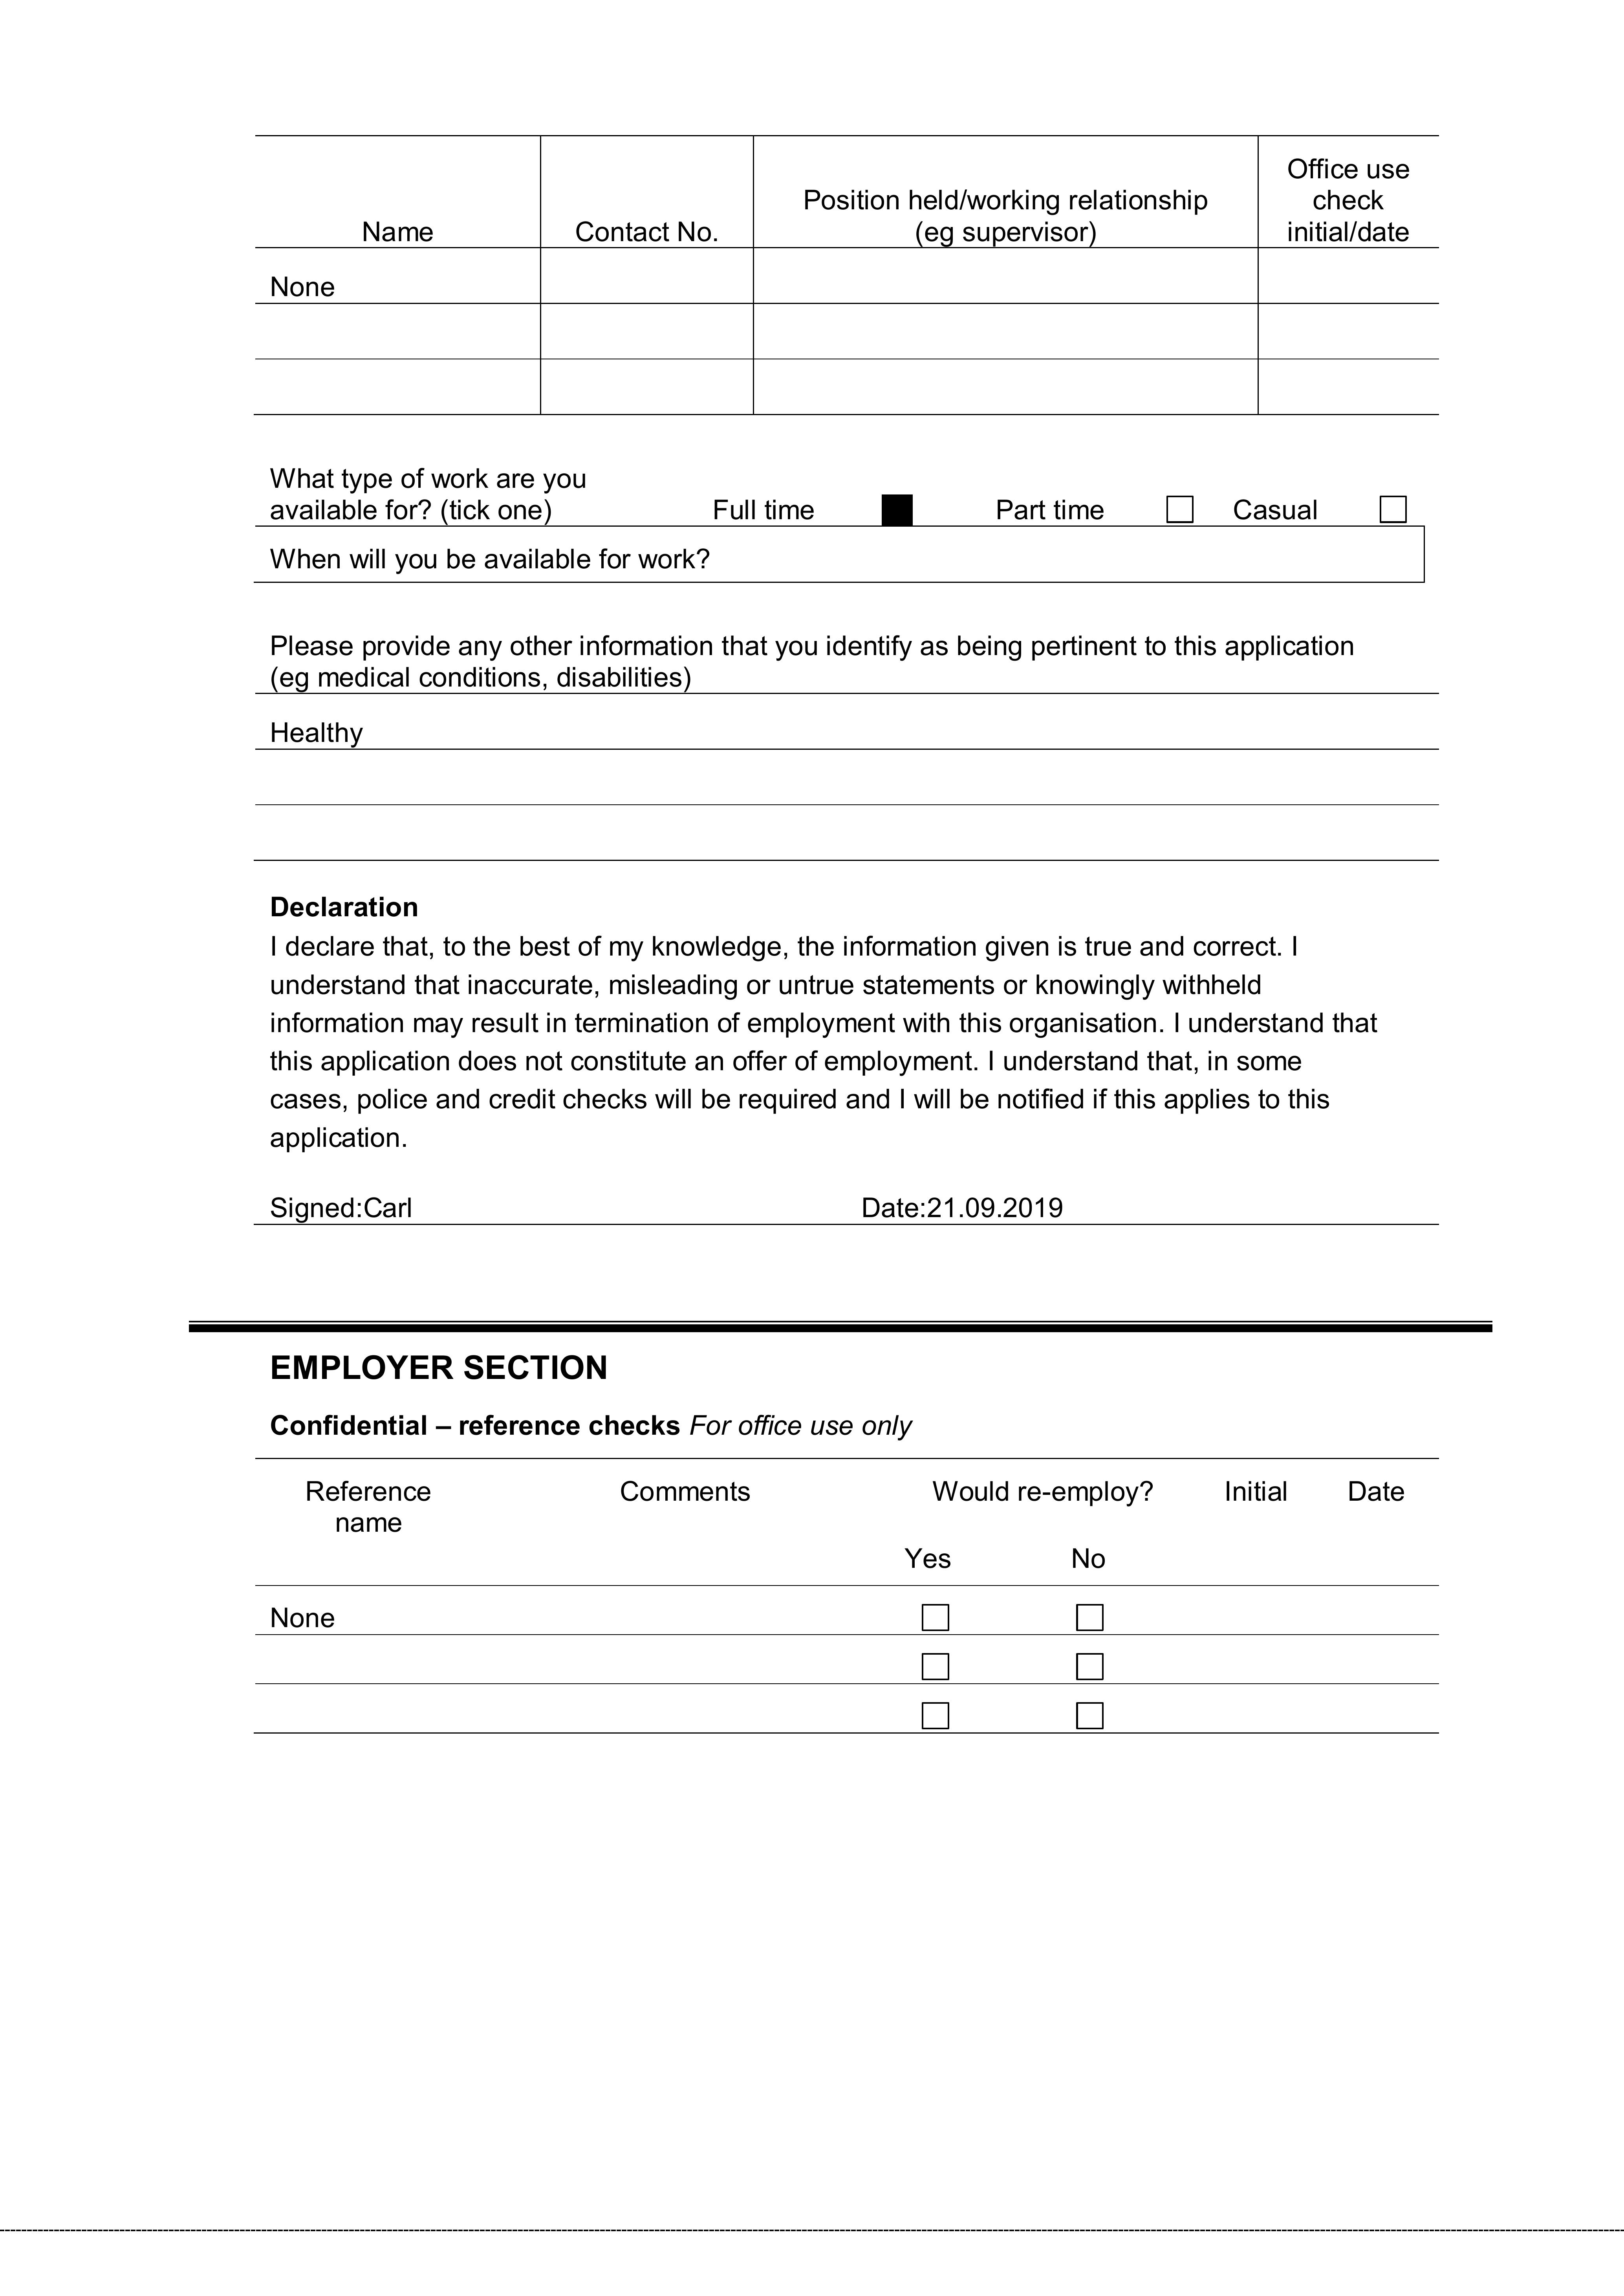table: (258, 1326, 1441, 1739), (258, 134, 1436, 415)
